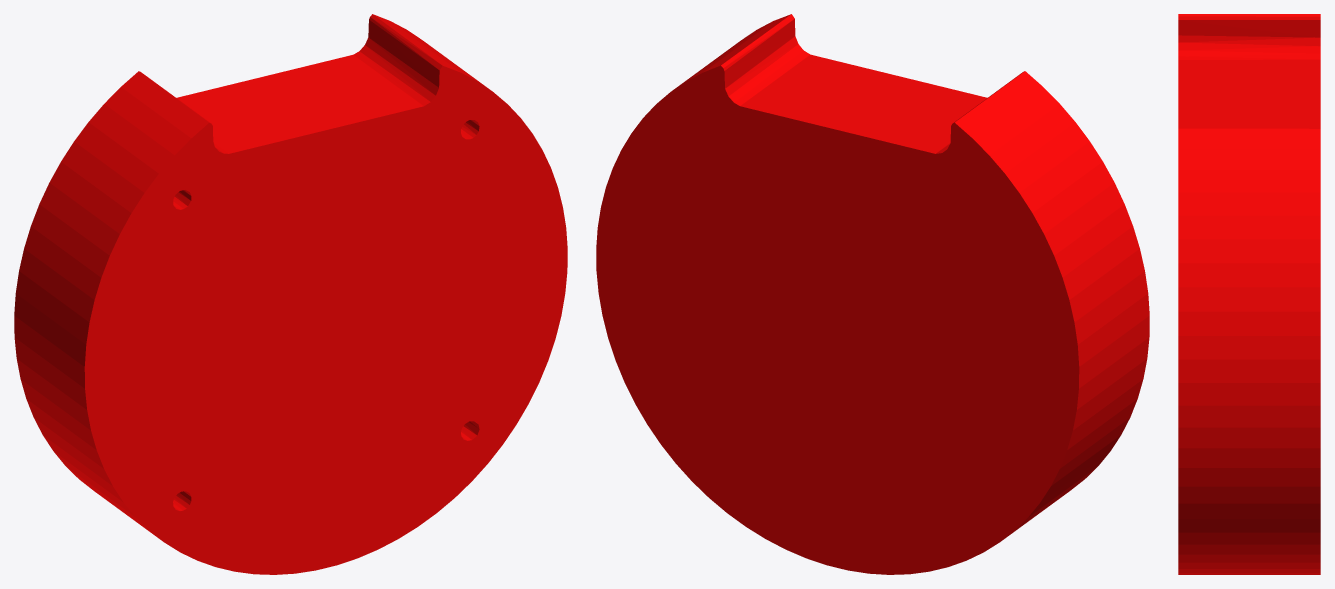
File: head_1_x4_2_pcb_1.glb
The picture shows the model from 3 angles, left to right: view 1: azimuth 30°, elevation 25°; view 2: azimuth 150°, elevation 25°; view 3: azimuth 270°, elevation 25°; orthographic projection.
Parts seen in each view (by area): view 1: head_1_x4_2_pcb_1.obj; view 2: head_1_x4_2_pcb_1.obj; view 3: head_1_x4_2_pcb_1.obj.
Boxes of the visible parts, left/top/right/bottom form: head_1_x4_2_pcb_1.obj: left=14, top=14, right=567, bottom=574; head_1_x4_2_pcb_1.obj: left=596, top=14, right=1149, bottom=574; head_1_x4_2_pcb_1.obj: left=1178, top=14, right=1320, bottom=574.
Bounding box in the file's own units: 0.0534 × 0.05 × 0.0135.
